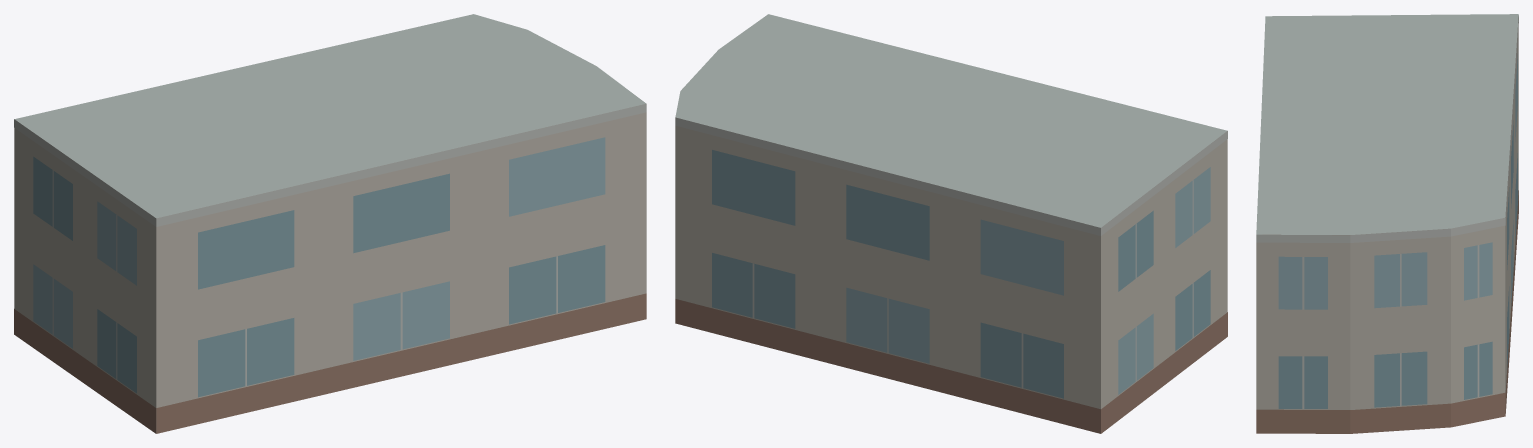
Rendered from survey-upis-32458389.glb.
3 views of the same model, side by side, from view 1: azimuth 30°, elevation 25°; view 2: azimuth 150°, elevation 25°; view 3: azimuth 270°, elevation 25° (orthographic). The views are drawn at different scales.
Parts seen in each view (by area): view 1: survey-upis-32458389.tmp; view 2: survey-upis-32458389.tmp; view 3: survey-upis-32458389.tmp.
Part boxes in pixels (x1=…): survey-upis-32458389.tmp: x1=14, y1=14, x2=646, y2=433; survey-upis-32458389.tmp: x1=675, y1=14, x2=1227, y2=433; survey-upis-32458389.tmp: x1=1256, y1=14, x2=1518, y2=433.
Bounding box in the file's own units: 14.56 × 6.1 × 7.31.
